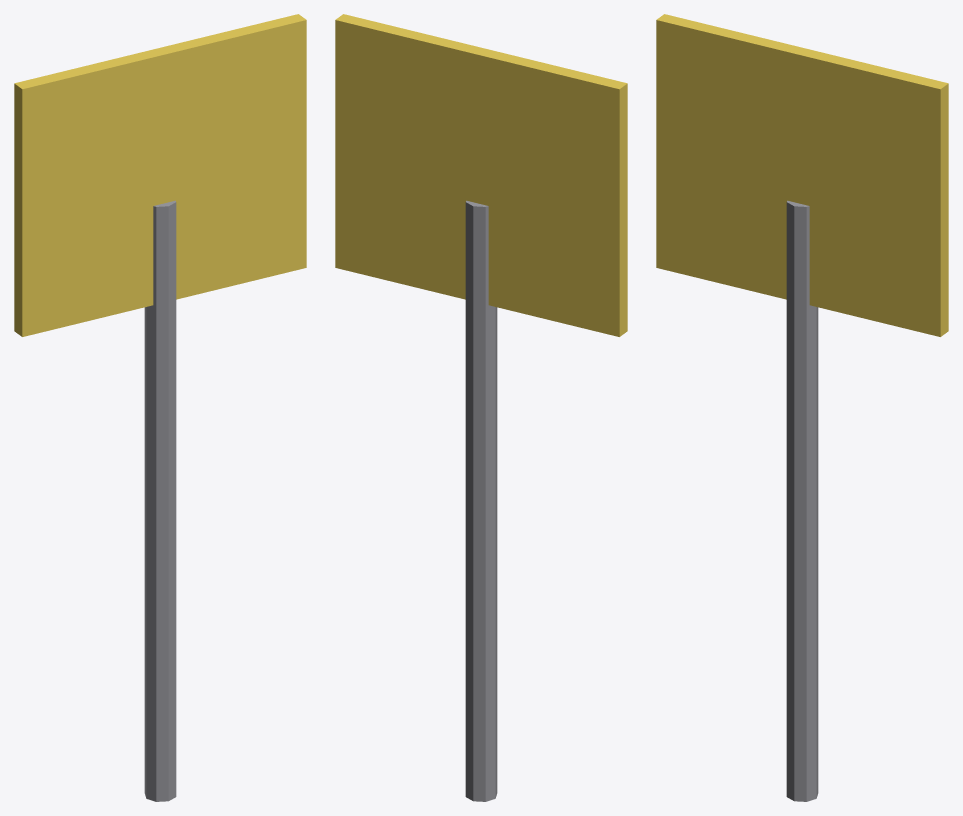
Rendered from snow_emergency_sign.glb.
The picture shows the model from 3 angles, left to right: view 1: azimuth 30°, elevation 25°; view 2: azimuth 150°, elevation 25°; view 3: azimuth 330°, elevation 25°; orthographic projection.
Parts seen in each view (by area): view 1: plate, post; view 2: plate, post; view 3: plate, post.
Part boxes in pixels (x1,y1,x2,y2): plate: (14,14,306,336); post: (144,200,176,801); plate: (335,14,627,336); post: (465,200,497,801); plate: (656,14,948,336); post: (786,200,818,801).
Size of the model in its own units: 1.2 by 3 by 0.1191.
